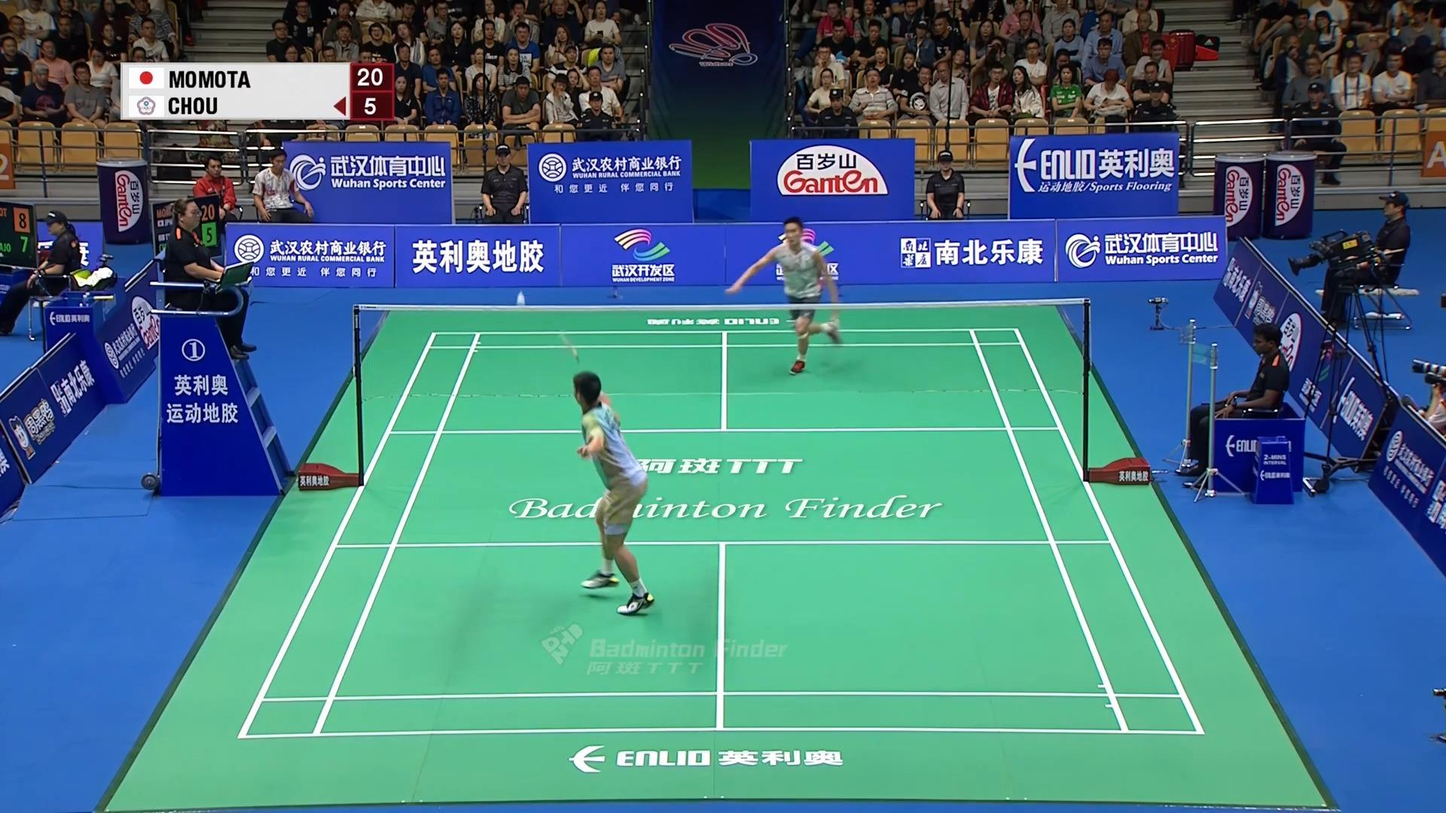player: (572, 372, 654, 617), (726, 216, 841, 375)
shuttlecock: (516, 291, 526, 306)
